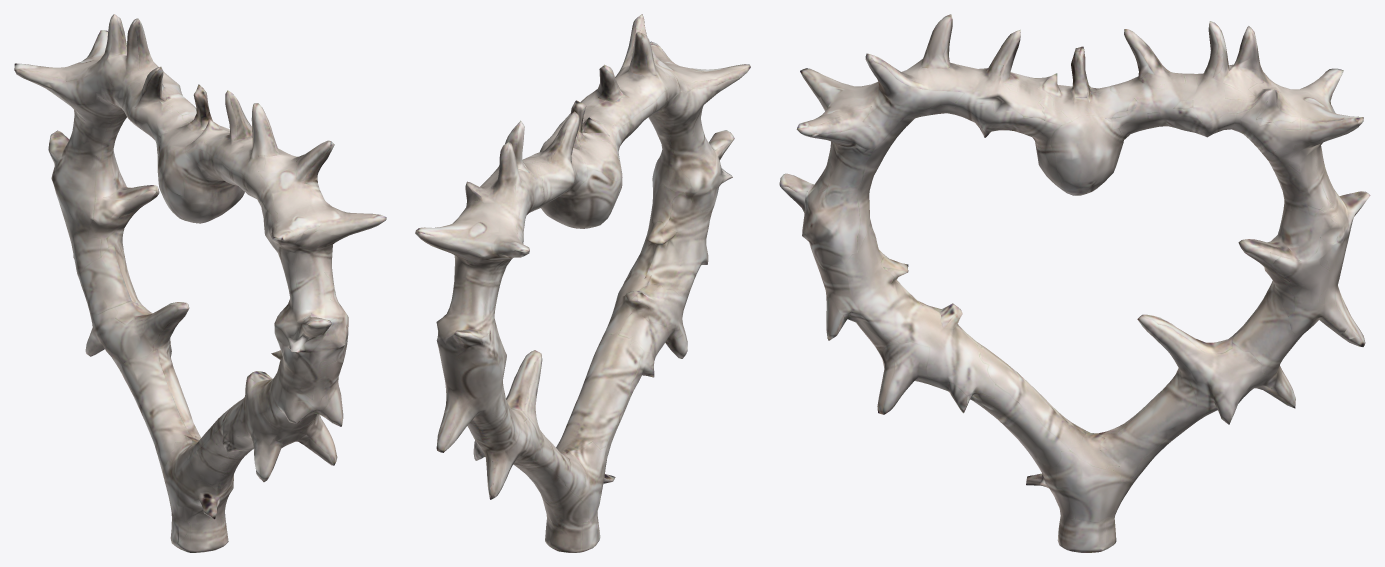
3 renders of one model, left to right at view 1: azimuth 30°, elevation 25°; view 2: azimuth 150°, elevation 25°; view 3: azimuth 270°, elevation 25°, orthographic. The views are drawn at different scales.
Parts seen in each view (by area): view 1: Mesh_0; view 2: Mesh_0; view 3: Mesh_0.
Boxes of the visible parts, x1,y1,x2,y2 form: Mesh_0: [14, 14, 386, 552]; Mesh_0: [415, 14, 750, 552]; Mesh_0: [779, 14, 1370, 552].
Bounding box in the file's own units: 0.3125 × 1.18 × 1.2.
1 material, 1 textured.
